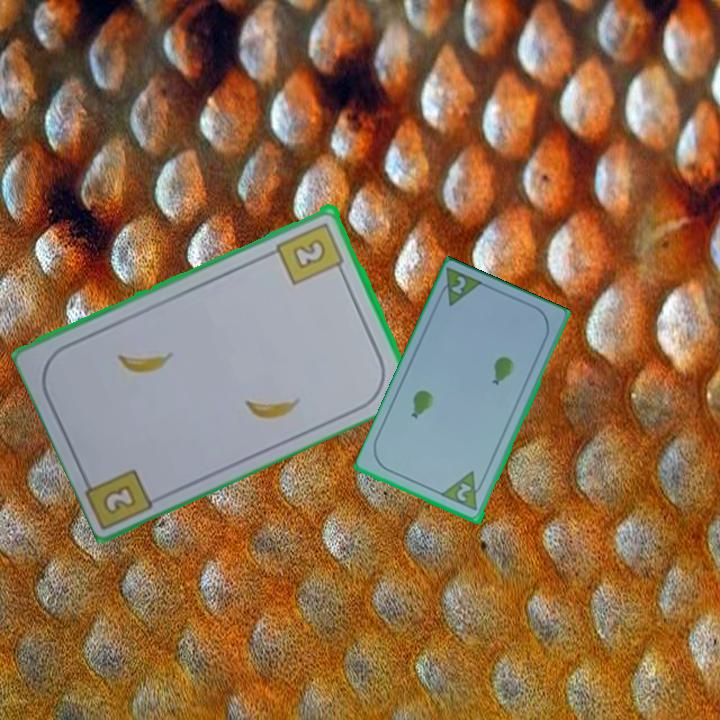2b: (273, 218, 347, 287), (99, 480, 140, 517)
2p: (433, 265, 487, 310), (439, 468, 489, 514)
